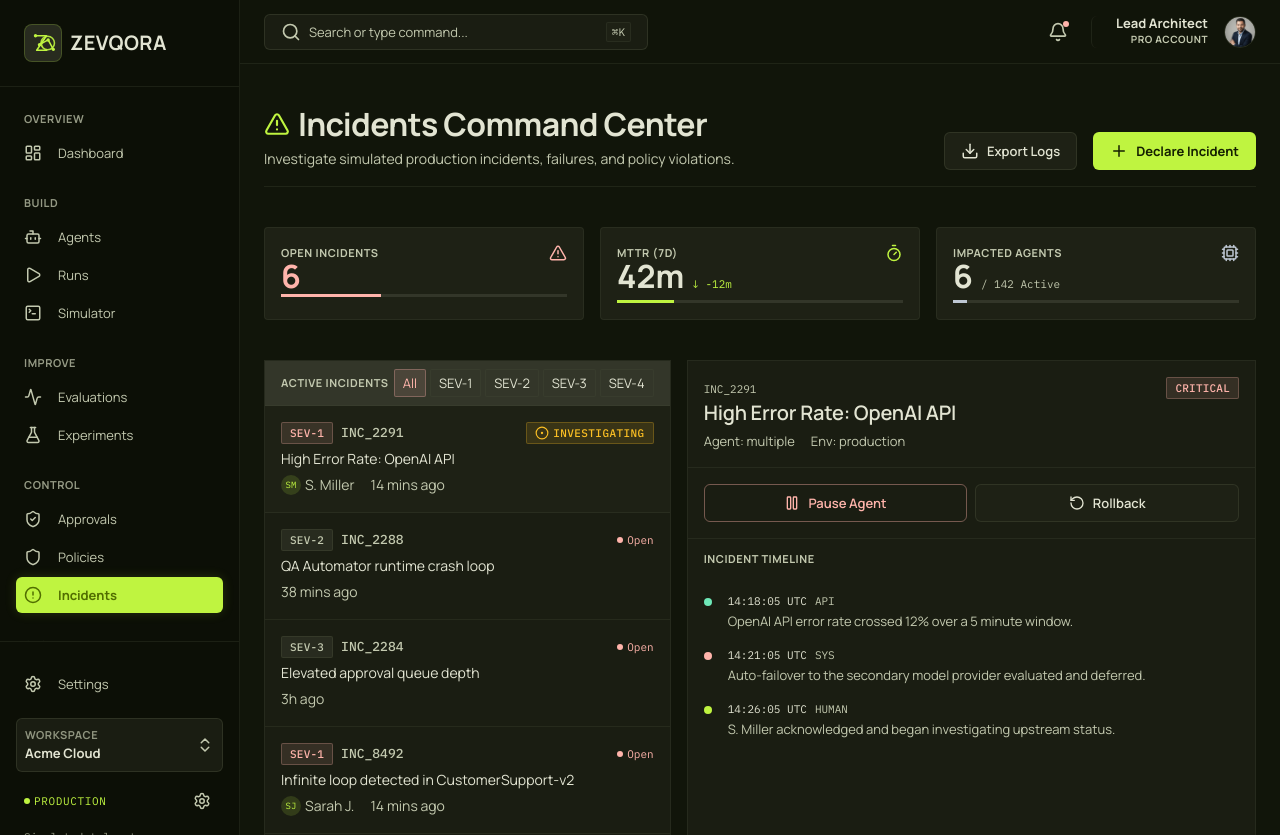
Test: Incidents › selecting an incident renders its timeline
This screenshot has width=1280, height=835.
Click the text "Infinite loop detected in CustomerSupport-v2" at (428, 780), box [281,770,574,789]
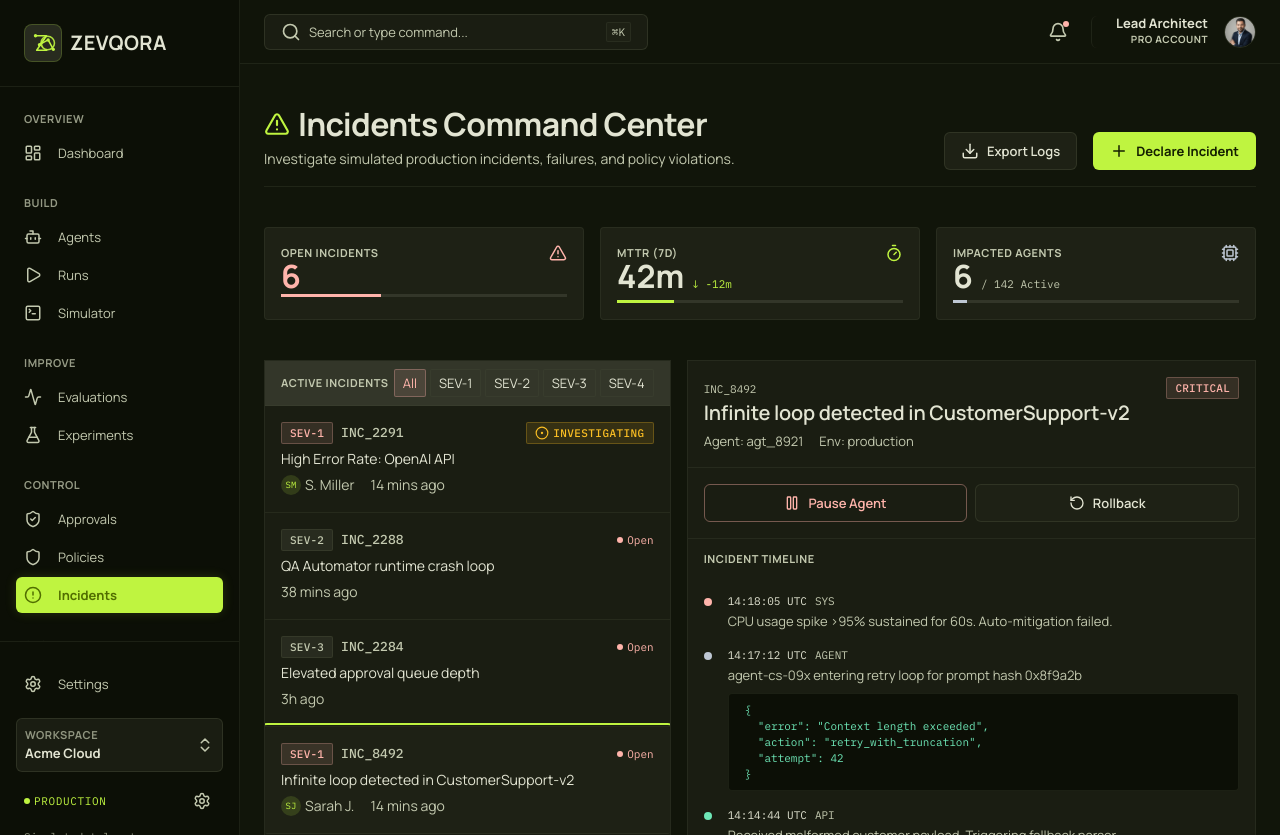
Now the text "CPU usage spike" is shown, box [728,612,1112,630]
